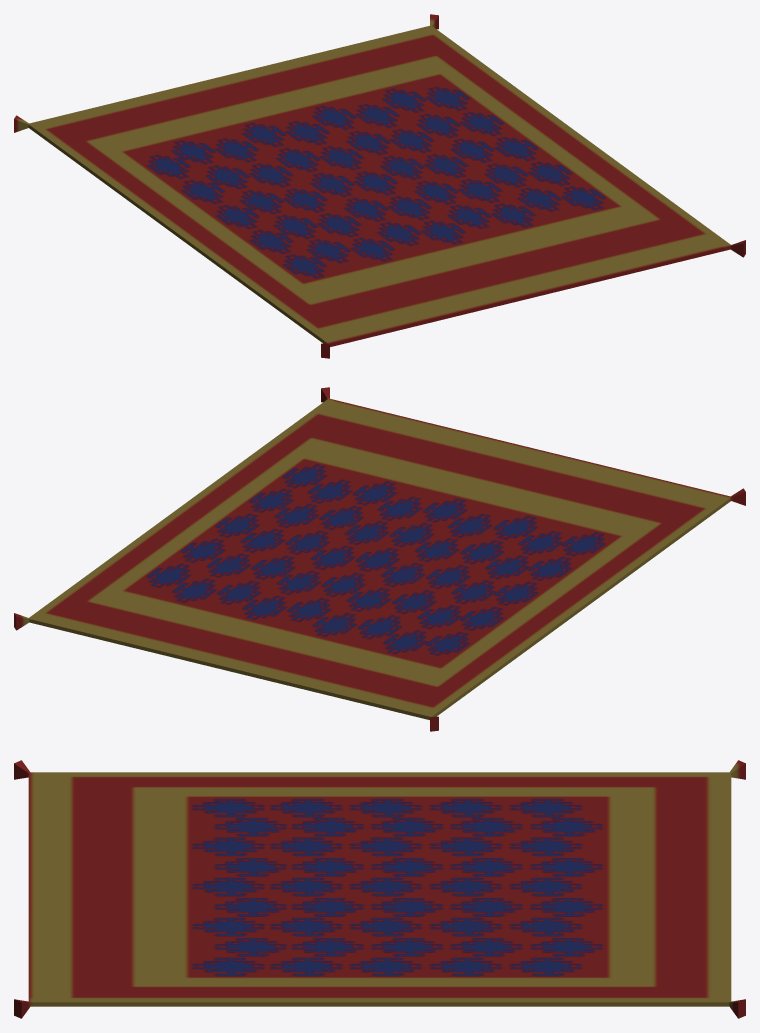
The model's file is tapis.FBX.
The picture shows the model from 3 angles, top to bottom: view 1: azimuth 30°, elevation 25°; view 2: azimuth 150°, elevation 25°; view 3: azimuth 270°, elevation 25°; orthographic projection. The views are drawn at different scales.
Parts seen in each view (by area): view 1: Box001; view 2: Box001; view 3: Box001.
Boxes of the visible parts, left/top/right/bottom form: Box001: left=14, top=14, right=745, bottom=358; Box001: left=14, top=387, right=745, bottom=731; Box001: left=14, top=760, right=745, bottom=1018.
Bounding box in the file's own units: 1.88 × 0.0595 × 2.4.
Materials: 1 (1 with a texture image).
